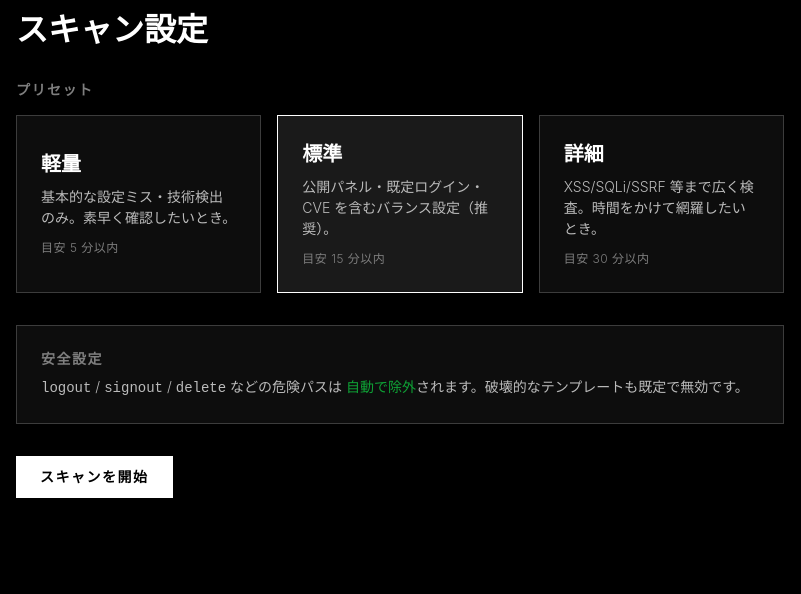
Test: pages/sites/[id]/scan › 409 は「既にスキャン実行中」のメッセージを表示し遷移しない
What coordinates should you click on to do the following:
click the button with test id "start-scan"
I would click on:
 (94, 477)
Its box is [16,456,172,498].
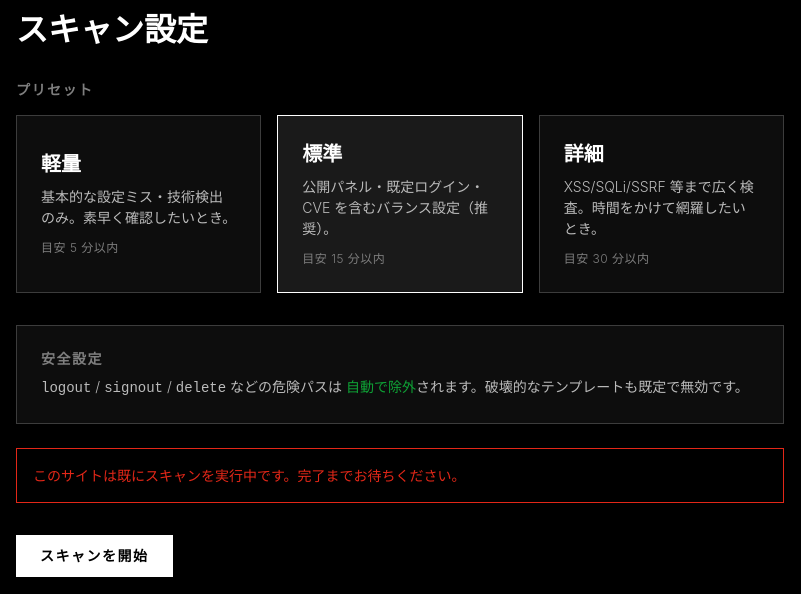
Check: the text "既にスキャンを実行中" is shown, box [33,467,466,484]
